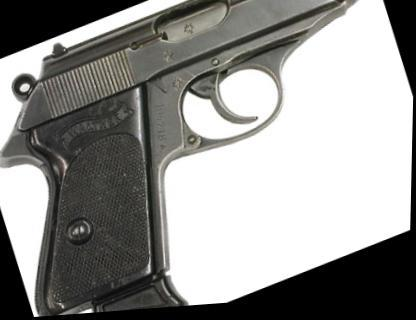pistol: (0, 0, 415, 317)
